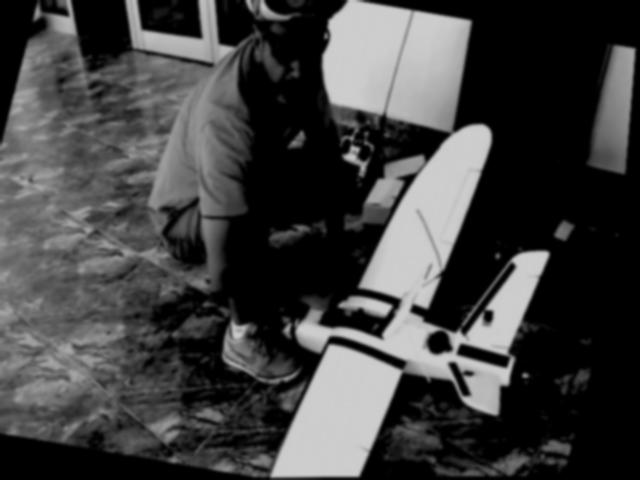hedef: (219, 91, 588, 479)
